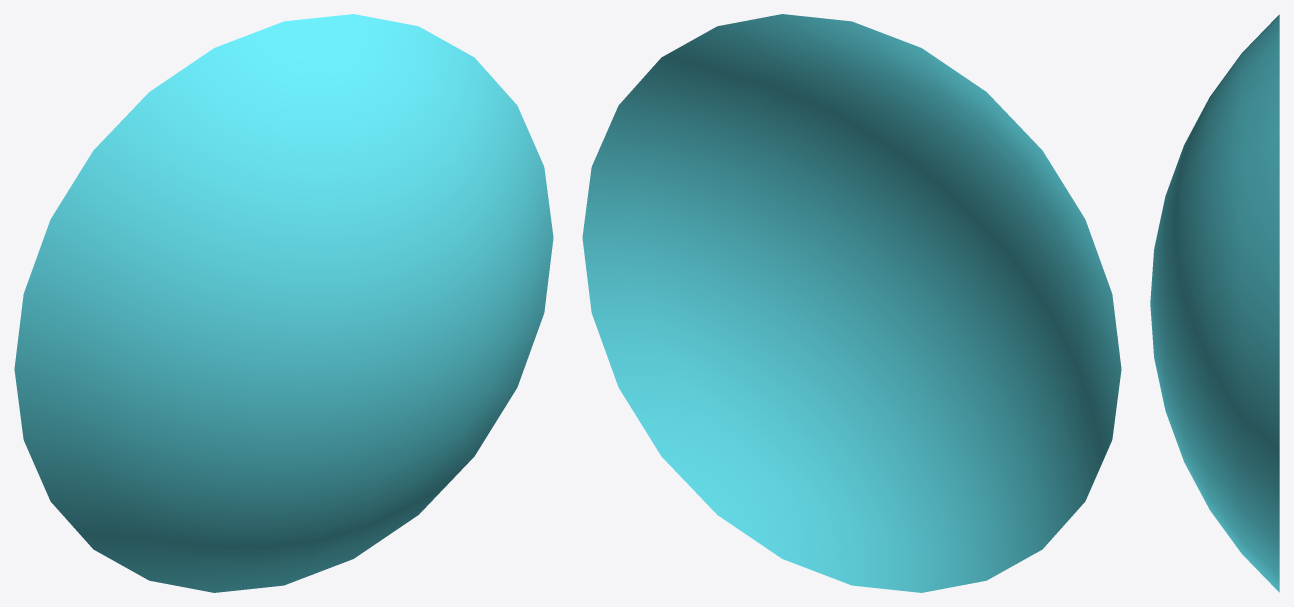
The model's file is original-23.obj.
3 views of the same model, side by side, from view 1: azimuth 30°, elevation 25°; view 2: azimuth 150°, elevation 25°; view 3: azimuth 270°, elevation 25° (orthographic). The views are drawn at different scales.
Size of the model in its own units: 0.3593 by 0.3593 by 0.08.
